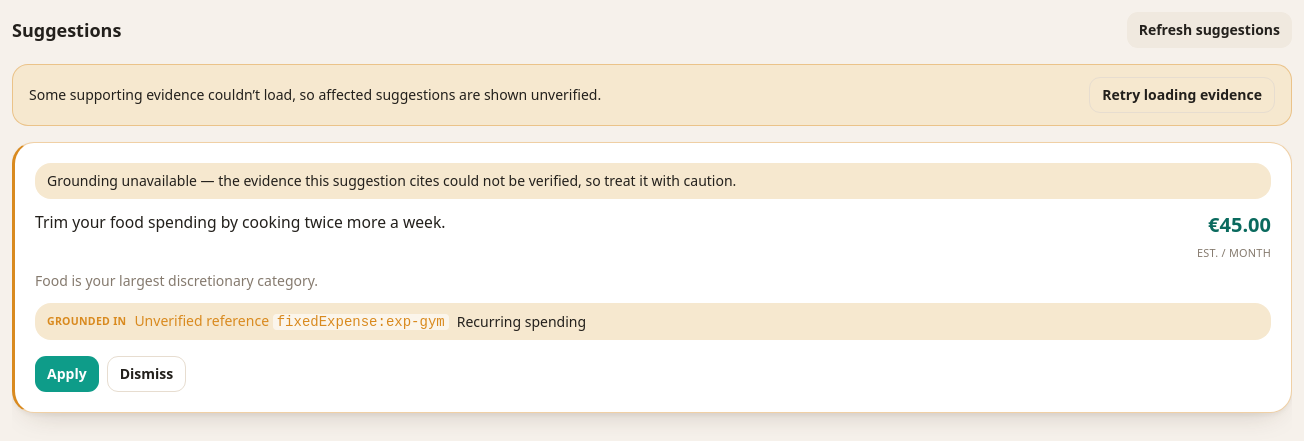
SuggestionsSection › recovers a failed grounding-context fetch via retry, without a page reload
Click the button "Retry loading evidence": {"x": 1182, "y": 95} [1089,77,1275,113]
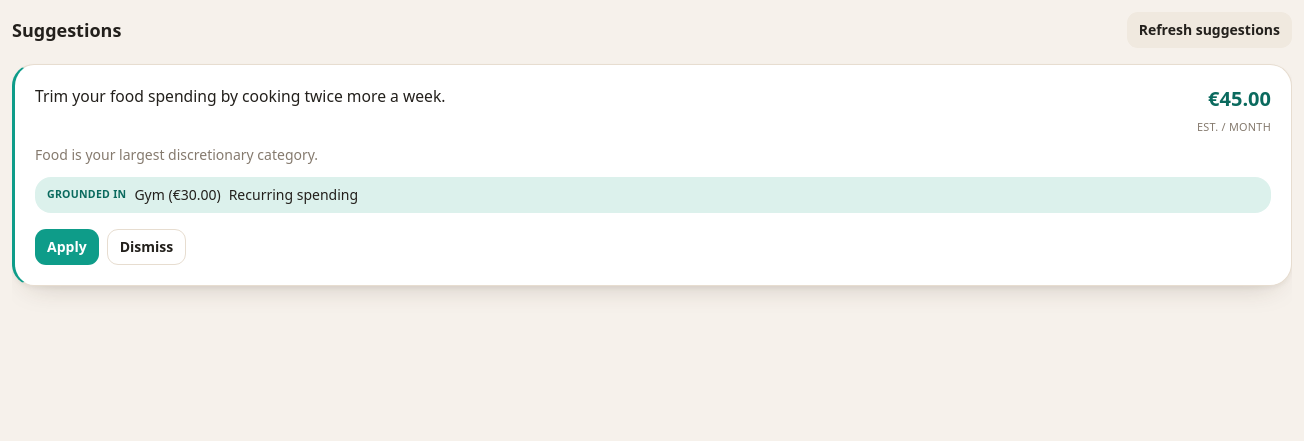
Now the text "Some supporting evidence couldn’t load" is gone
